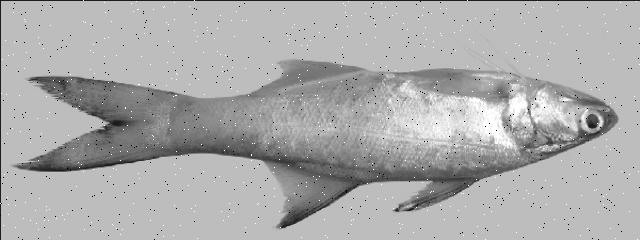Mulut: (548, 78, 632, 144)
Sirip Anal: (232, 46, 372, 104)
Sirip Dada: (406, 71, 518, 107)
Sirip Ekor: (4, 69, 202, 181)
Sirip Perut: (402, 55, 474, 82)
Sirip Punggung: (248, 142, 482, 237)
